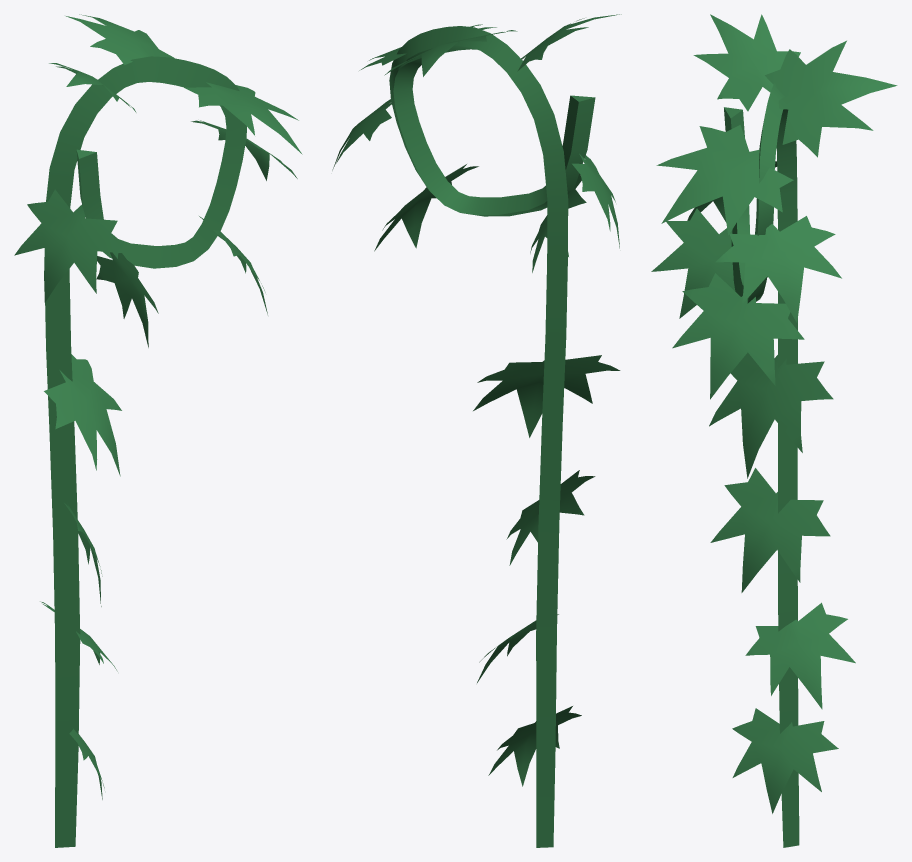
Rendered from vine_O_alangium.fbx.
The picture shows the model from 3 angles, left to right: view 1: azimuth 30°, elevation 25°; view 2: azimuth 150°, elevation 25°; view 3: azimuth 270°, elevation 25°; orthographic projection.
Visible parts, largest first — view 1: vine_O_alangium_root, vine_O_alangium_A_leaf_B87, vine_O_alangium_A_leaf_B85, vine_O_alangium_A_leaf_B94, vine_O_alangium_A_leaf_B95, vine_O_alangium_A_leaf_B91, vine_O_alangium_A_leaf_B92; view 2: vine_O_alangium_root, vine_O_alangium_A_leaf_B85, vine_O_alangium_A_leaf_B96, vine_O_alangium_A_leaf_B89, vine_O_alangium_A_leaf_B93, vine_O_alangium_A_leaf_B87, vine_O_alangium_A_leaf_B92, vine_O_alangium_A_leaf_B91, vine_O_alangium_A_leaf_B86, vine_O_alangium_A_leaf_B95, vine_O_alangium_A_leaf_B88; view 3: vine_O_alangium_root, vine_O_alangium_A_leaf_B93, vine_O_alangium_A_leaf_B94, vine_O_alangium_A_leaf_B91, vine_O_alangium_A_leaf_B85, vine_O_alangium_A_leaf_B96, vine_O_alangium_A_leaf_B92, vine_O_alangium_A_leaf_B89, vine_O_alangium_A_leaf_B88, vine_O_alangium_A_leaf_B86, vine_O_alangium_A_leaf_B95.
Part boxes in pixels (bbox=[...]): vine_O_alangium_root: bbox=[45, 56, 246, 847]; vine_O_alangium_A_leaf_B87: bbox=[14, 189, 124, 302]; vine_O_alangium_A_leaf_B85: bbox=[44, 354, 121, 476]; vine_O_alangium_A_leaf_B94: bbox=[184, 82, 302, 154]; vine_O_alangium_A_leaf_B95: bbox=[96, 252, 158, 347]; vine_O_alangium_A_leaf_B91: bbox=[66, 14, 174, 64]; vine_O_alangium_A_leaf_B92: bbox=[191, 120, 297, 180]; vine_O_alangium_root: bbox=[389, 26, 595, 847]; vine_O_alangium_A_leaf_B85: bbox=[473, 355, 620, 437]; vine_O_alangium_A_leaf_B96: bbox=[506, 470, 595, 565]; vine_O_alangium_A_leaf_B89: bbox=[488, 706, 581, 786]; vine_O_alangium_A_leaf_B93: bbox=[374, 164, 478, 251]; vine_O_alangium_A_leaf_B87: bbox=[572, 153, 619, 248]; vine_O_alangium_A_leaf_B92: bbox=[332, 99, 393, 170]; vine_O_alangium_A_leaf_B91: bbox=[384, 30, 517, 76]; vine_O_alangium_A_leaf_B86: bbox=[517, 14, 621, 71]; vine_O_alangium_A_leaf_B95: bbox=[530, 173, 586, 272]; vine_O_alangium_A_leaf_B88: bbox=[477, 614, 558, 682]; vine_O_alangium_root: bbox=[724, 82, 799, 847]; vine_O_alangium_A_leaf_B93: bbox=[672, 273, 804, 399]; vine_O_alangium_A_leaf_B94: bbox=[656, 125, 793, 235]; vine_O_alangium_A_leaf_B91: bbox=[765, 40, 897, 157]; vine_O_alangium_A_leaf_B85: bbox=[709, 352, 833, 478]; vine_O_alangium_A_leaf_B96: bbox=[710, 468, 830, 592]; vine_O_alangium_A_leaf_B92: bbox=[715, 216, 841, 322]; vine_O_alangium_A_leaf_B89: bbox=[732, 708, 838, 813]; vine_O_alangium_A_leaf_B88: bbox=[745, 602, 855, 709]; vine_O_alangium_A_leaf_B86: bbox=[693, 14, 800, 111]; vine_O_alangium_A_leaf_B95: bbox=[651, 208, 767, 318].
Bounding box in the file's own units: 58.72 × 168 × 46.05.
